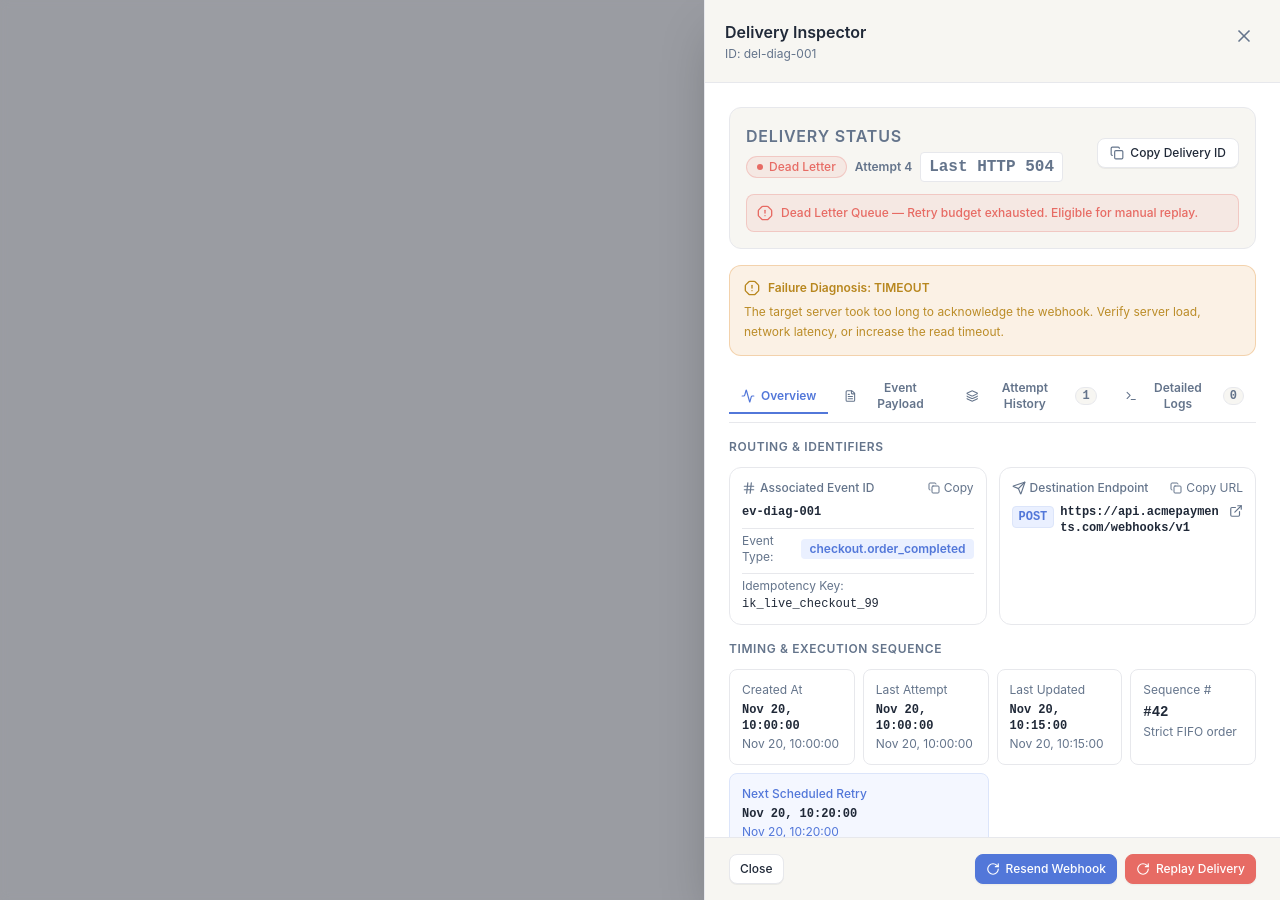
Test case: Phase 2 – Vani's Task 2: Advanced Filtering & Detailed Logs (Frontend) › 4. DeliveryDetailDrawer Diagnostics & Logs Inspector › switches to Event Payload tab and renders redacted payload JSON
Click the button "Event Payload": [891, 397] box [832,372,950,422]
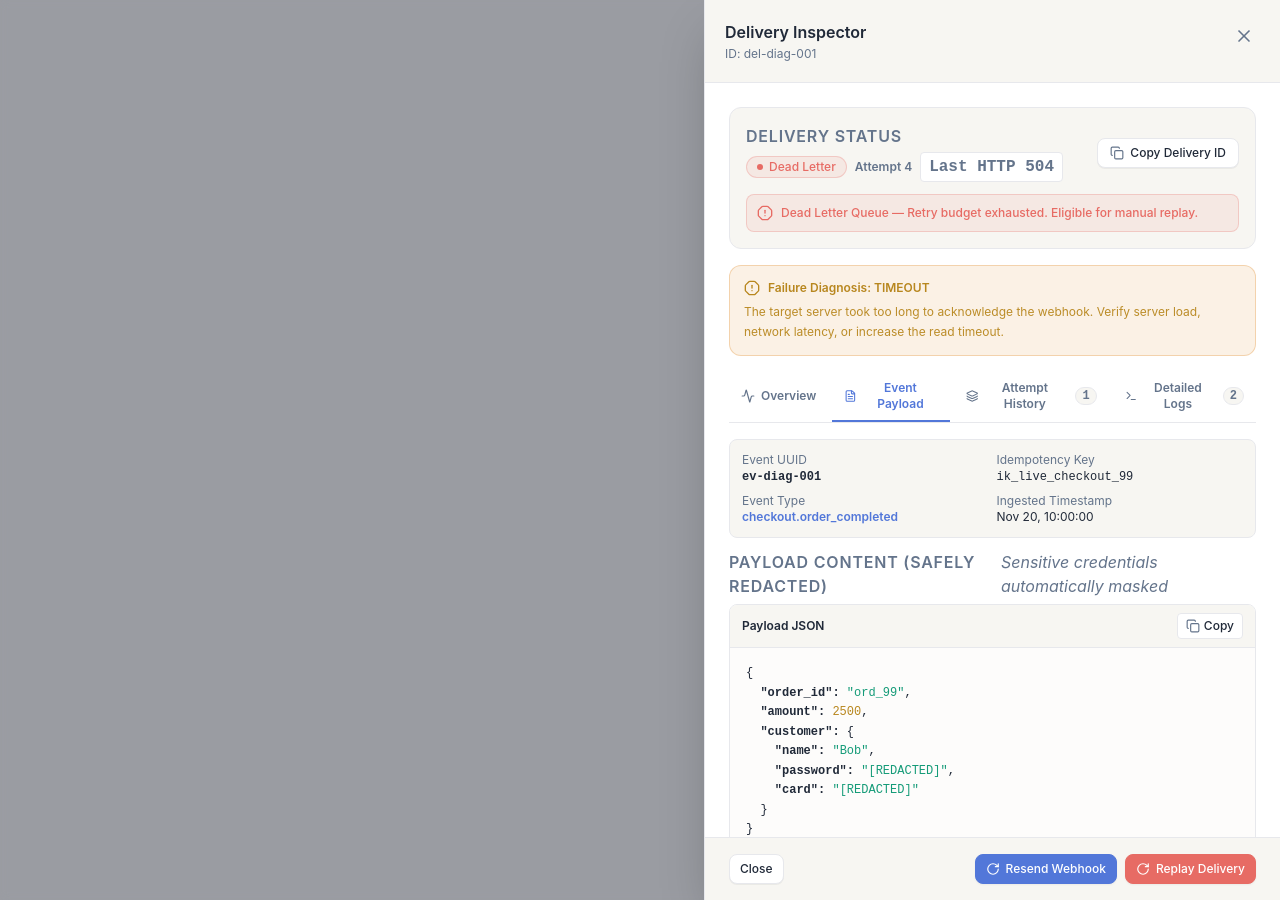
Expected: the text "ev-diag-001" is shown, [742,470,821,484]
Expected: the heading "Payload Content (Safely Redacted)" is shown, [729,550,1001,598]
